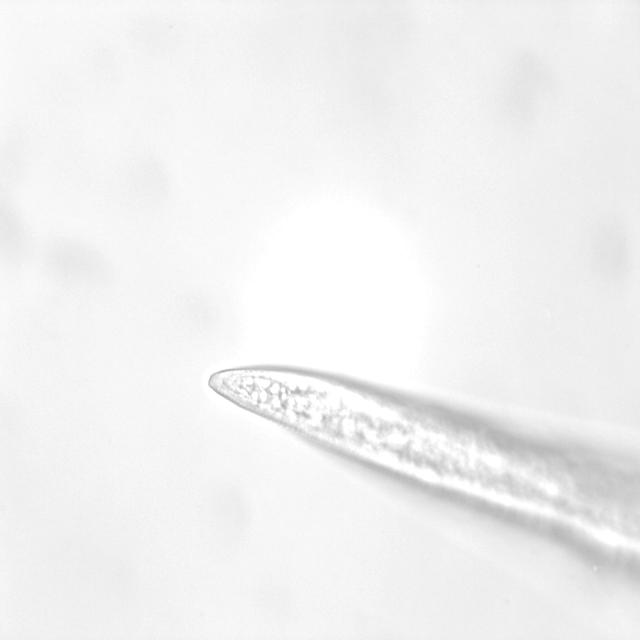Pratylenchus: (188, 358, 442, 513)
